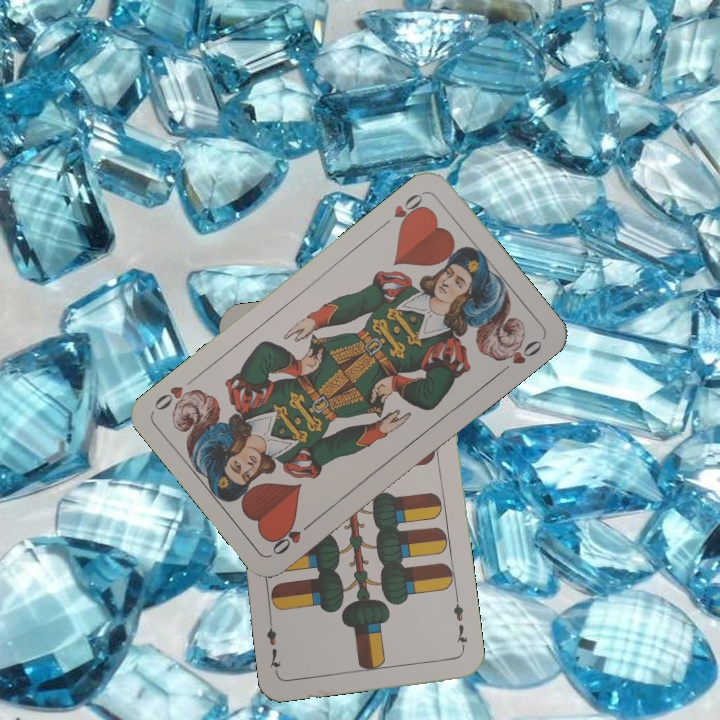E7: (449, 594, 471, 653)
HO: (377, 188, 428, 231), (268, 516, 318, 558)
